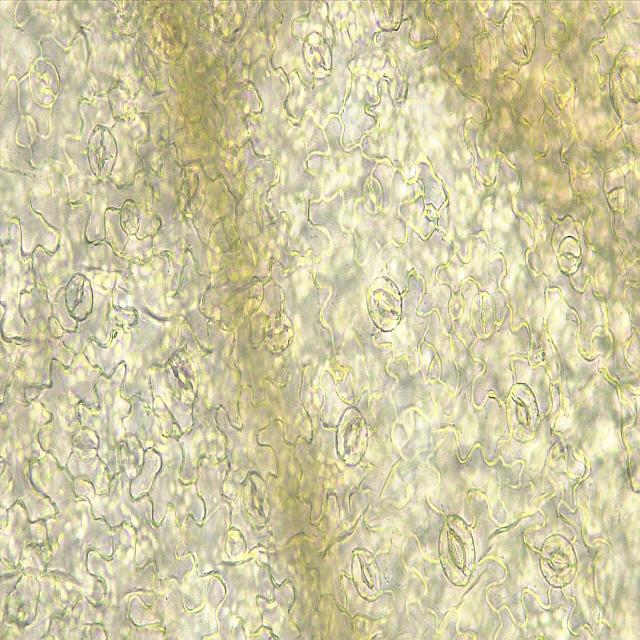Stomata: (438, 513, 476, 587), (608, 44, 640, 124), (501, 3, 537, 67), (151, 2, 189, 60), (163, 348, 200, 407), (505, 382, 540, 444), (366, 275, 403, 332), (540, 534, 579, 588), (336, 407, 368, 466), (178, 158, 207, 218), (28, 56, 61, 108), (351, 547, 382, 602), (242, 472, 270, 530), (87, 125, 117, 178), (263, 310, 295, 356), (64, 273, 94, 322), (469, 290, 497, 341), (302, 31, 332, 78), (118, 433, 146, 481), (369, 0, 404, 33), (555, 235, 582, 276), (119, 198, 143, 237), (362, 173, 384, 215)
